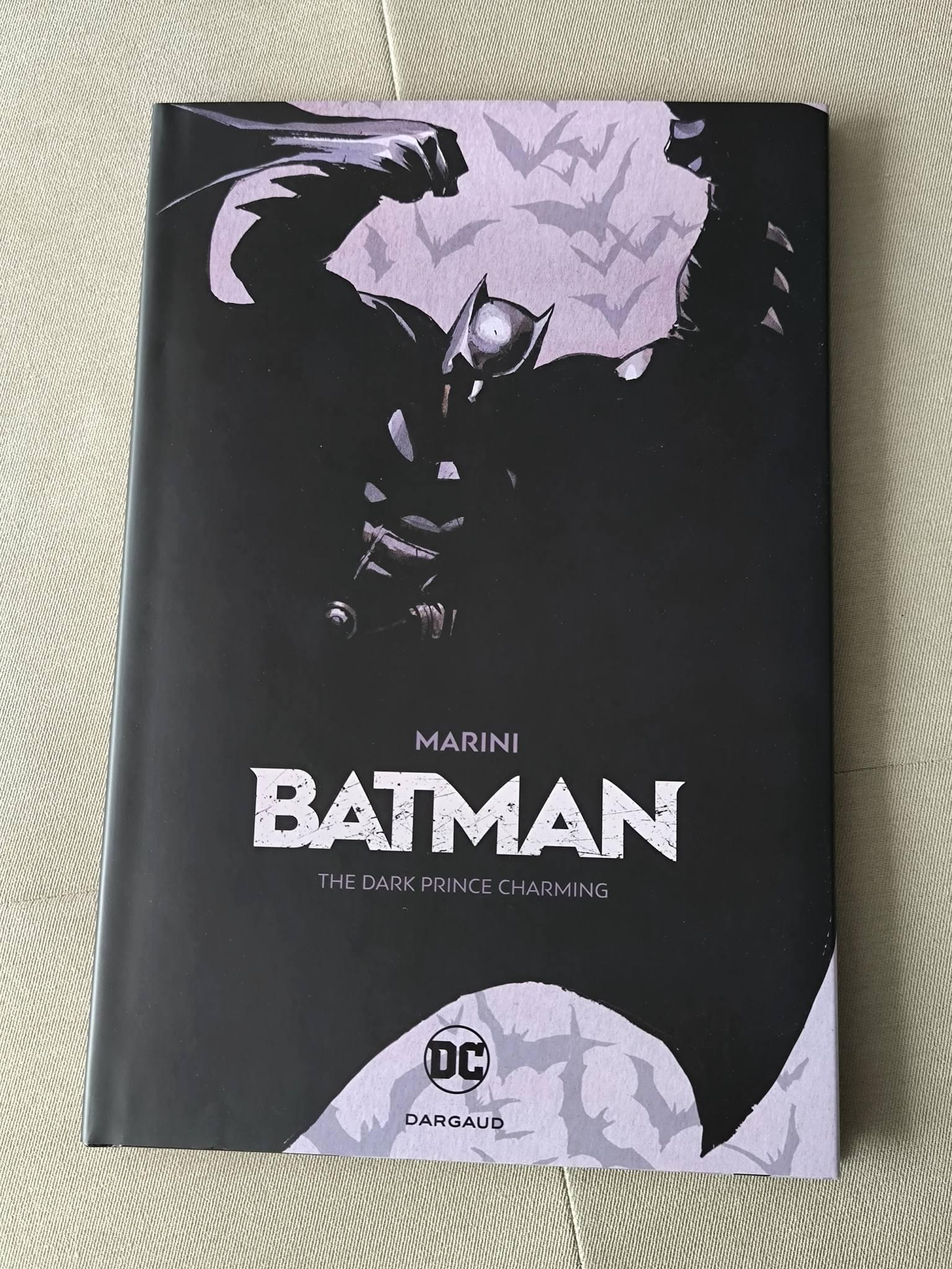comic: (85, 76, 881, 1176)
